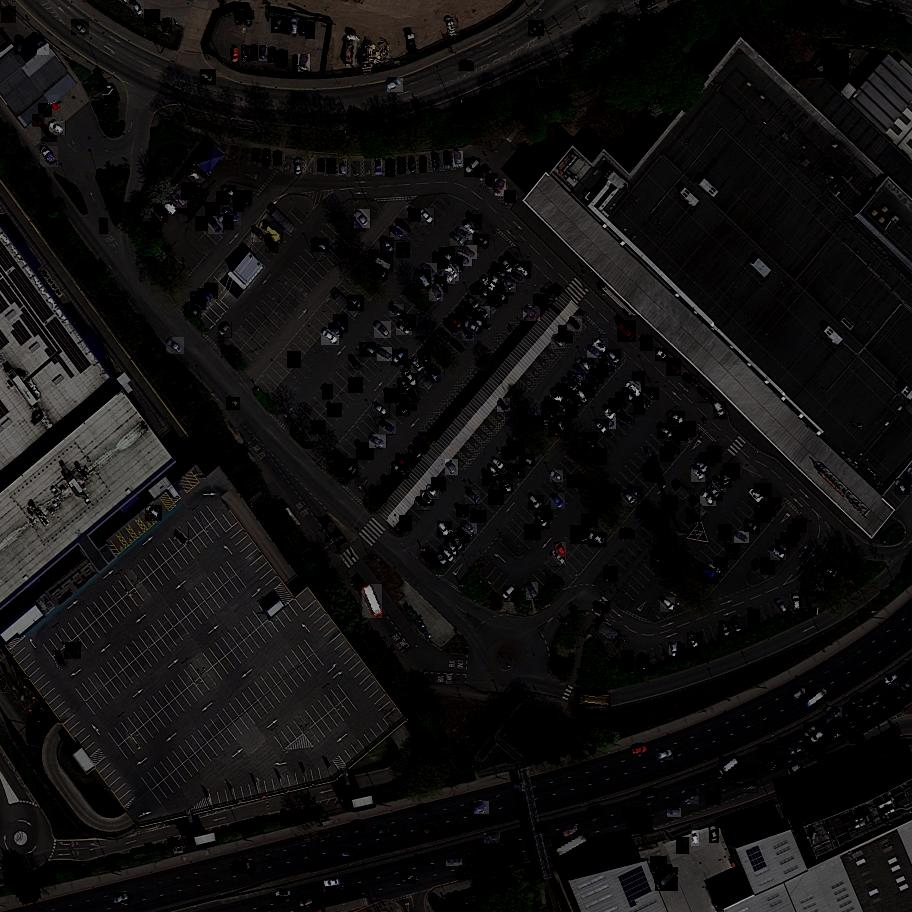large-vehicle: (557, 834, 590, 860), (596, 623, 629, 647), (362, 585, 384, 619), (655, 867, 680, 891), (627, 816, 654, 835), (579, 693, 612, 706), (346, 35, 359, 66), (41, 146, 59, 167), (233, 863, 257, 876), (407, 33, 419, 56), (447, 18, 458, 40)
small-vehicle: (805, 689, 830, 712), (368, 253, 395, 272), (720, 756, 743, 778), (260, 221, 284, 242), (617, 320, 638, 342), (335, 459, 359, 478), (190, 292, 209, 312), (395, 454, 415, 473), (802, 579, 822, 598), (571, 525, 590, 545), (698, 568, 720, 585), (464, 159, 483, 178), (180, 182, 199, 201), (222, 208, 242, 226), (706, 482, 724, 502), (355, 210, 373, 229), (791, 686, 810, 704), (356, 443, 375, 461), (417, 269, 433, 290), (41, 125, 59, 143), (374, 321, 392, 339), (391, 349, 409, 367), (391, 462, 410, 479), (251, 225, 270, 242), (167, 337, 186, 354), (70, 20, 89, 37), (321, 329, 340, 346), (369, 487, 389, 503), (450, 532, 466, 552), (403, 370, 419, 390), (475, 281, 493, 298), (599, 356, 616, 374), (421, 264, 439, 281), (516, 261, 533, 279), (488, 489, 506, 506), (420, 208, 437, 226), (185, 301, 203, 318), (348, 295, 366, 312), (694, 459, 712, 476), (545, 396, 563, 413), (644, 465, 662, 482), (333, 315, 349, 334), (706, 562, 725, 578), (754, 507, 773, 523), (682, 789, 701, 805), (808, 745, 827, 761), (542, 402, 558, 421), (687, 633, 703, 652), (499, 475, 514, 495), (588, 532, 608, 547), (433, 252, 450, 269), (65, 642, 82, 659), (236, 190, 253, 207), (1, 6, 18, 23), (749, 489, 766, 506), (582, 432, 599, 449), (697, 387, 714, 404), (480, 277, 498, 293), (493, 287, 509, 305), (472, 311, 488, 329), (558, 325, 574, 343), (666, 358, 682, 376), (491, 264, 509, 280), (466, 214, 484, 230), (445, 264, 461, 282), (593, 338, 609, 356), (482, 470, 498, 488), (508, 441, 526, 457), (438, 548, 456, 564), (145, 505, 163, 521), (208, 217, 224, 235), (172, 192, 188, 210), (144, 10, 162, 26), (199, 70, 217, 86), (349, 355, 365, 373), (387, 78, 405, 94), (657, 423, 675, 439), (650, 857, 668, 873), (569, 393, 585, 411), (379, 420, 397, 436), (400, 395, 418, 411), (551, 551, 567, 569), (454, 252, 473, 267), (507, 464, 526, 479), (575, 358, 594, 373), (423, 368, 442, 383), (535, 407, 550, 426), (717, 622, 732, 641), (775, 598, 790, 617), (748, 609, 761, 630), (534, 295, 550, 312), (523, 306, 540, 322), (348, 377, 365, 393), (174, 528, 191, 544), (147, 221, 163, 238), (198, 289, 215, 305), (328, 323, 345, 339), (528, 21, 545, 37), (395, 218, 412, 234), (360, 342, 377, 358), (411, 357, 427, 374), (827, 707, 843, 724), (680, 422, 697, 438), (805, 580, 821, 597), (804, 722, 820, 739), (725, 544, 741, 561), (760, 501, 777, 517), (662, 495, 679, 511), (701, 490, 718, 506), (419, 432, 435, 449), (556, 383, 572, 400), (626, 382, 643, 398), (385, 389, 402, 405), (525, 525, 542, 541), (529, 495, 545, 512), (605, 485, 622, 501), (448, 315, 466, 330), (434, 276, 449, 294), (429, 284, 444, 302), (500, 257, 515, 275), (434, 551, 449, 569), (811, 574, 826, 592), (822, 564, 840, 579), (754, 483, 772, 498), (723, 465, 741, 480), (691, 465, 706, 483), (708, 446, 723, 464), (622, 807, 640, 822), (562, 379, 580, 394), (555, 416, 570, 434), (780, 532, 798, 547), (369, 433, 387, 448), (373, 403, 391, 418), (396, 399, 411, 417), (713, 401, 728, 419), (761, 557, 776, 575), (582, 513, 600, 528), (525, 582, 539, 601), (155, 204, 169, 223), (312, 239, 331, 253), (667, 411, 686, 425), (420, 490, 436, 506), (503, 587, 519, 603), (195, 217, 211, 233), (397, 378, 413, 394), (812, 731, 828, 747), (700, 452, 716, 468), (608, 400, 624, 416), (623, 490, 639, 506), (603, 567, 619, 583), (456, 307, 471, 324), (640, 336, 655, 353), (607, 350, 622, 367), (450, 233, 467, 248), (439, 246, 456, 261), (445, 459, 460, 476), (382, 476, 399, 491), (438, 521, 453, 538), (573, 365, 588, 382), (288, 351, 303, 368), (271, 17, 286, 34), (390, 304, 407, 319), (390, 226, 407, 241), (402, 315, 417, 332), (718, 525, 733, 542), (686, 507, 701, 524), (713, 476, 728, 493), (786, 763, 803, 778), (602, 415, 619, 430), (593, 420, 610, 435), (660, 597, 677, 612), (731, 618, 746, 635), (775, 539, 792, 554), (536, 513, 551, 530), (551, 493, 566, 510), (652, 508, 669, 523), (683, 375, 701, 389), (504, 274, 518, 292), (470, 510, 488, 524), (632, 372, 646, 390), (55, 652, 69, 670), (217, 216, 235, 230), (266, 236, 280, 254), (49, 121, 67, 135), (427, 363, 445, 377), (593, 448, 607, 466), (567, 475, 585, 489), (621, 651, 635, 669), (638, 654, 652, 672), (540, 288, 559, 301), (299, 54, 312, 73), (465, 295, 481, 310), (461, 301, 476, 317), (567, 317, 583, 332), (462, 245, 478, 260), (415, 496, 431, 511), (431, 477, 447, 492), (465, 491, 481, 506), (491, 458, 507, 473), (311, 421, 327, 436), (149, 212, 164, 228), (205, 203, 220, 219), (205, 283, 220, 299), (218, 322, 233, 338), (351, 218, 367, 233), (896, 479, 911, 495), (674, 427, 690, 442), (659, 447, 674, 463), (818, 756, 834, 771), (456, 867, 472, 882), (676, 838, 691, 854), (565, 404, 581, 419), (130, 0, 145, 16), (552, 334, 566, 351), (488, 270, 502, 287), (473, 234, 490, 248), (568, 374, 585, 388), (305, 426, 319, 443), (372, 266, 389, 280), (418, 350, 432, 367), (377, 348, 394, 362), (664, 442, 681, 456), (399, 871, 416, 885), (762, 756, 779, 770), (743, 764, 760, 778), (552, 388, 566, 405), (770, 546, 787, 560), (465, 321, 483, 334), (455, 228, 473, 241), (439, 271, 457, 284), (445, 539, 458, 557), (276, 50, 289, 68), (381, 237, 394, 255), (865, 699, 883, 712), (724, 774, 742, 787), (788, 525, 801, 543), (298, 898, 317, 910), (487, 293, 502, 308), (585, 374, 600, 389), (327, 403, 342, 418), (216, 191, 231, 206), (792, 519, 807, 534), (581, 383, 596, 398), (530, 416, 545, 431), (498, 399, 513, 414), (451, 256, 465, 272), (588, 346, 604, 360), (590, 370, 606, 384), (397, 242, 411, 258), (396, 322, 412, 336), (885, 674, 901, 688), (777, 738, 793, 752), (706, 792, 722, 806), (638, 394, 654, 408), (622, 387, 636, 403), (650, 551, 664, 567), (462, 325, 475, 342), (498, 282, 515, 295), (408, 447, 425, 460), (519, 453, 536, 466), (733, 532, 750, 545), (757, 745, 774, 758), (484, 834, 501, 847), (642, 387, 659, 400), (627, 486, 644, 499), (113, 894, 131, 906), (789, 746, 807, 758), (593, 602, 611, 614), (505, 252, 520, 266), (426, 485, 440, 500), (226, 397, 241, 411), (409, 208, 423, 223), (714, 557, 729, 571), (38, 104, 53, 118), (474, 801, 489, 815), (540, 505, 554, 520), (14, 36, 25, 55), (385, 159, 396, 178), (709, 825, 720, 844), (597, 363, 610, 379), (488, 464, 501, 480), (501, 447, 517, 460), (221, 185, 237, 198), (414, 438, 427, 454), (744, 521, 760, 534), (576, 390, 589, 406), (619, 413, 635, 426), (495, 180, 507, 197), (321, 384, 333, 401), (305, 23, 317, 40), (828, 723, 845, 735), (721, 471, 733, 488), (634, 398, 646, 415), (476, 306, 491, 319), (463, 522, 478, 535), (399, 516, 412, 531), (768, 498, 783, 511), (548, 423, 561, 438), (487, 173, 499, 189), (233, 197, 245, 213), (659, 749, 675, 761), (48, 95, 60, 111), (409, 388, 421, 404), (555, 542, 567, 558), (656, 349, 670, 362), (510, 271, 525, 283), (32, 114, 44, 129), (564, 827, 579, 839), (616, 392, 628, 407), (327, 158, 338, 174), (848, 712, 864, 723), (669, 644, 680, 660), (283, 19, 293, 36), (454, 151, 464, 168), (324, 880, 341, 890), (641, 791, 658, 801), (456, 505, 469, 518), (38, 43, 50, 57), (551, 471, 565, 483), (459, 529, 470, 544), (292, 92, 307, 103), (351, 821, 366, 832), (295, 157, 304, 175), (259, 46, 269, 62), (443, 151, 453, 167), (273, 151, 283, 167), (632, 745, 648, 755), (505, 191, 518, 203), (465, 222, 476, 236), (587, 808, 604, 817), (460, 62, 475, 72), (100, 218, 109, 234), (163, 18, 172, 34), (293, 56, 302, 72), (339, 159, 348, 175), (691, 831, 700, 847), (252, 149, 262, 163), (851, 697, 865, 707), (291, 18, 299, 35), (299, 19, 307, 36), (794, 595, 802, 612), (743, 784, 758, 793), (376, 828, 391, 837), (423, 828, 438, 837), (250, 46, 258, 62), (398, 158, 406, 174), (409, 158, 417, 174), (276, 891, 292, 899), (620, 530, 634, 539), (849, 737, 864, 745), (342, 851, 357, 859), (263, 149, 270, 166), (232, 48, 239, 64), (317, 158, 325, 172), (413, 857, 427, 865), (446, 859, 462, 866), (667, 809, 681, 817), (678, 643, 686, 657), (245, 10, 252, 25), (535, 825, 548, 833), (420, 156, 426, 173), (376, 158, 382, 174), (269, 48, 275, 63), (236, 10, 242, 24), (242, 46, 248, 60), (419, 806, 431, 813), (514, 784, 525, 791), (433, 154, 438, 167)
storage-tank: (823, 50, 849, 79)
